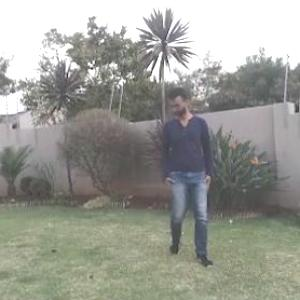follow: (162, 84, 220, 267)
